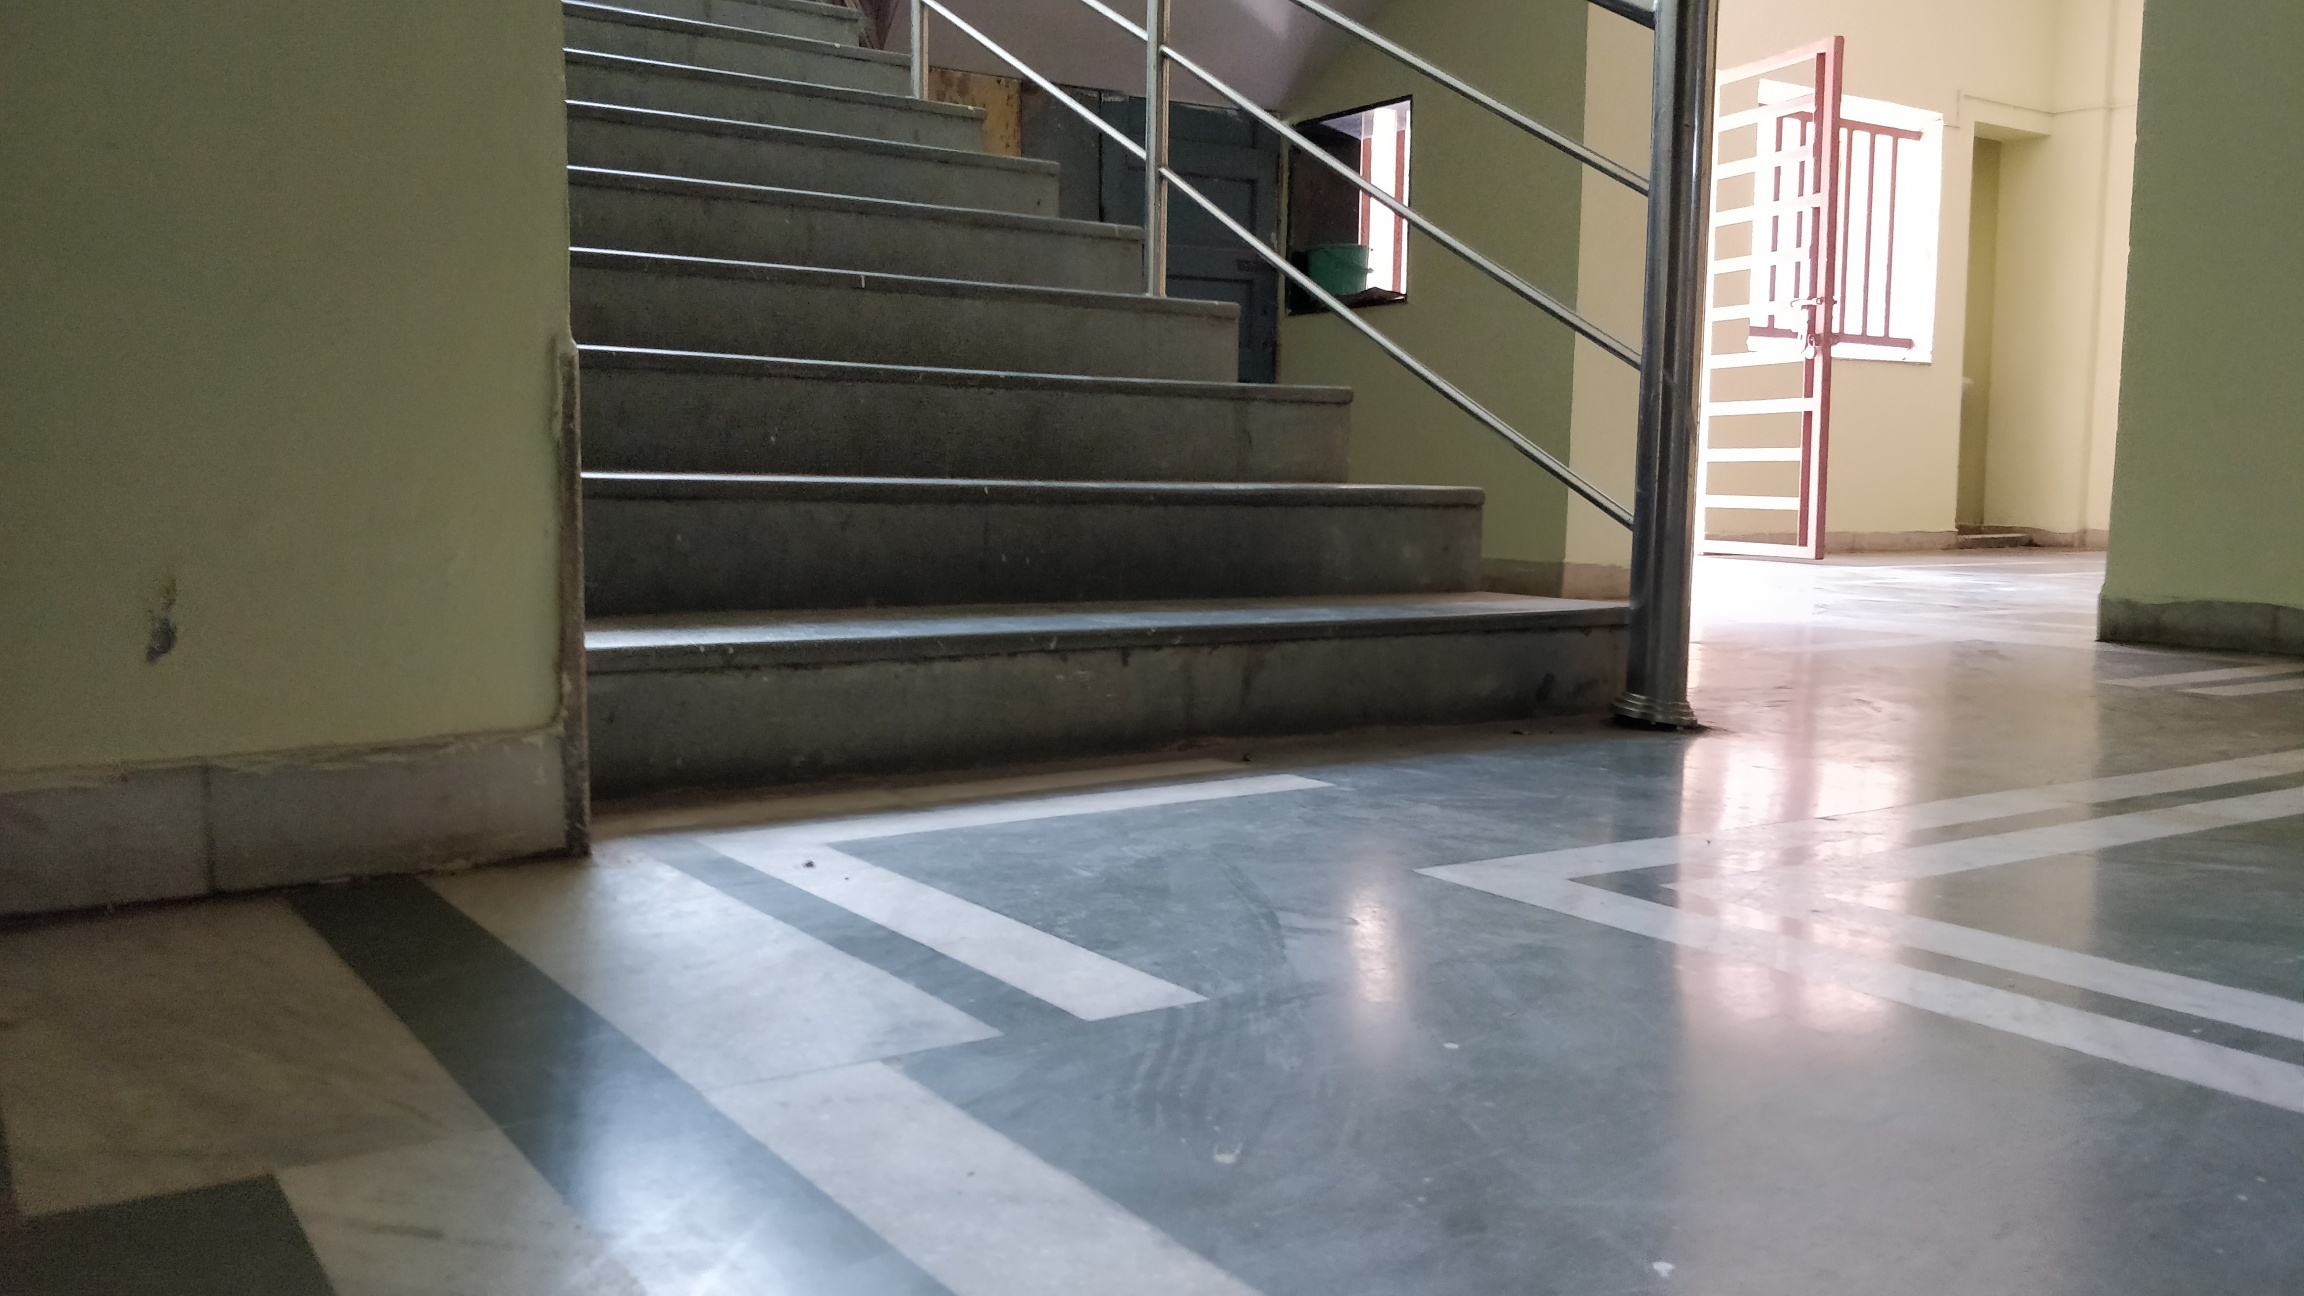stairs_up: (578, 19, 1617, 748)
